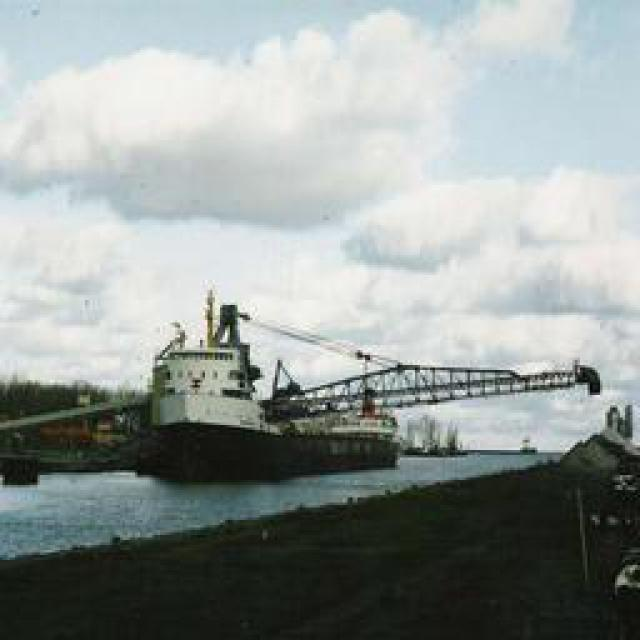Ship: (138, 289, 406, 482)
